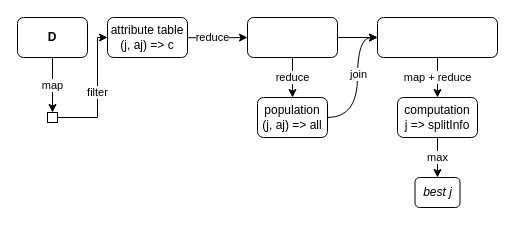
Some shapes in this 515 by 225 pixel diagram are drawn without their labels. Each missing label, with the centre of its shape:
computation input (j, aj) => ((c, cnt), all): the point at 437,37
count table (j, aj) => (c, cnt): the point at 292,37
